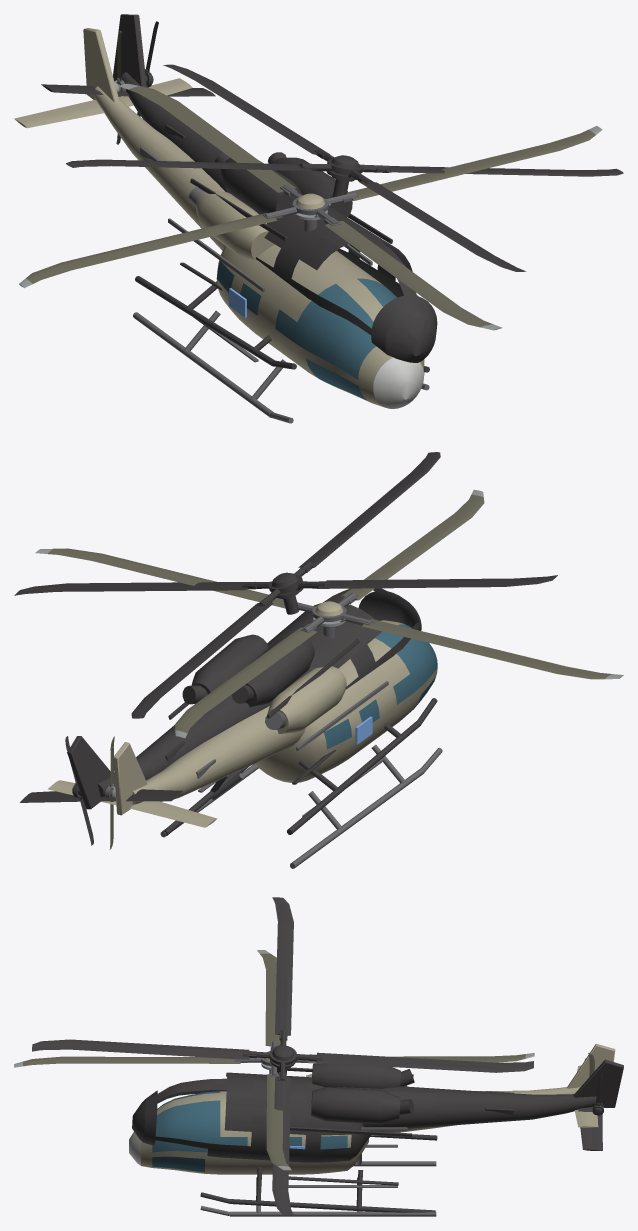
File: helicopter__bell_412epi.glb
The picture shows the model from 3 angles, top to bottom: view 1: azimuth 30°, elevation 25°; view 2: azimuth 150°, elevation 25°; view 3: azimuth 270°, elevation 25°; orthographic projection. The views are drawn at different scales.
Parts seen in each view (by area): view 1: Wreck, Fuselage_Mesh, Rotor_Main_Mesh, Engines_Mesh, Landing_Gear_Mesh; view 2: Wreck, Fuselage_Mesh, Rotor_Main_Mesh, Engines_Mesh, Landing_Gear_Mesh; view 3: Wreck, Fuselage_Mesh, Rotor_Main_Mesh, Landing_Gear_Mesh.
Part boxes in pixels (x1,y1,x2,y2): Wreck: (41, 14, 623, 372); Fuselage_Mesh: (14, 28, 424, 408); Rotor_Main_Mesh: (19, 83, 602, 330); Engines_Mesh: (188, 186, 274, 259); Landing_Gear_Mesh: (133, 310, 429, 423); Wreck: (14, 452, 557, 845); Fuselage_Mesh: (48, 620, 437, 827); Rotor_Main_Mesh: (35, 489, 623, 738); Engines_Mesh: (265, 666, 346, 733); Landing_Gear_Mesh: (160, 744, 442, 868); Wreck: (32, 897, 623, 1215); Fuselage_Mesh: (129, 1044, 615, 1187); Rotor_Main_Mesh: (14, 950, 534, 1170); Landing_Gear_Mesh: (200, 1154, 436, 1216).
Size of what is drawn, in the model's own units: 14.52 by 6.11 by 16.42.
